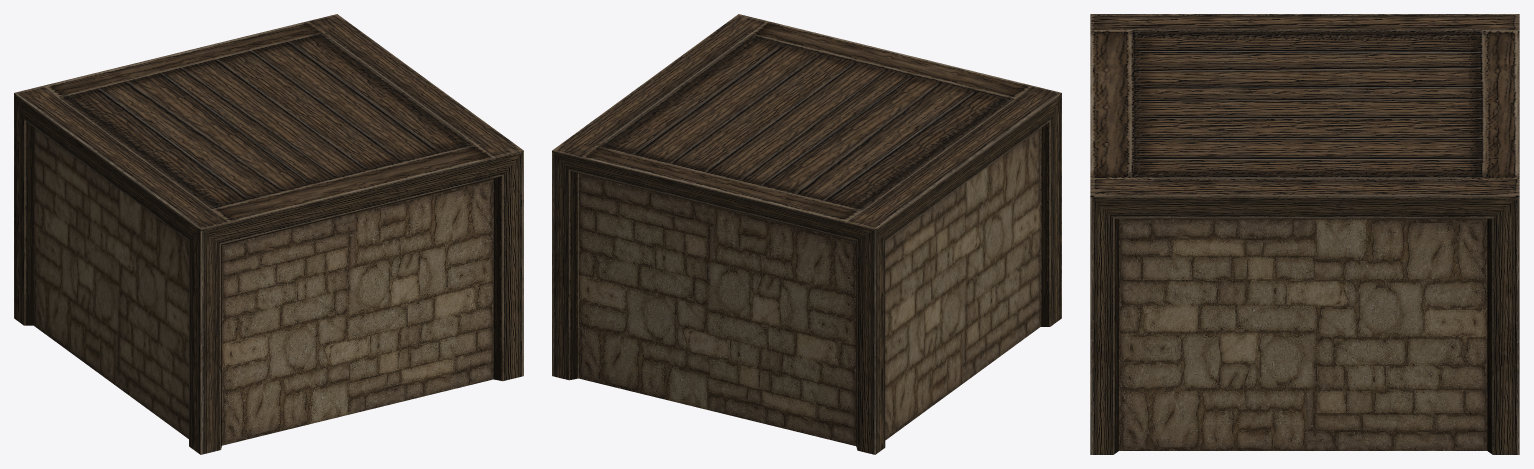
The model's file is House_6X6_04b.fbx.
The picture shows the model from 3 angles, left to right: view 1: azimuth 30°, elevation 25°; view 2: azimuth 150°, elevation 25°; view 3: azimuth 270°, elevation 25°; orthographic projection. The views are drawn at different scales.
Parts seen in each view (by area): view 1: House_6X6_04b; view 2: House_6X6_04b; view 3: House_6X6_04b.
Boxes of the visible parts, bbox=[...] form: House_6X6_04b: bbox=[14, 14, 523, 454]; House_6X6_04b: bbox=[552, 14, 1061, 454]; House_6X6_04b: bbox=[1090, 14, 1519, 454].
Bounding box in the file's own units: 6 × 4 × 6.
